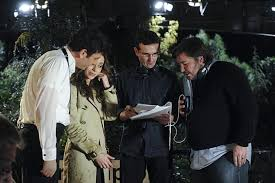Bad: (117, 31, 252, 182), (17, 27, 118, 183)
